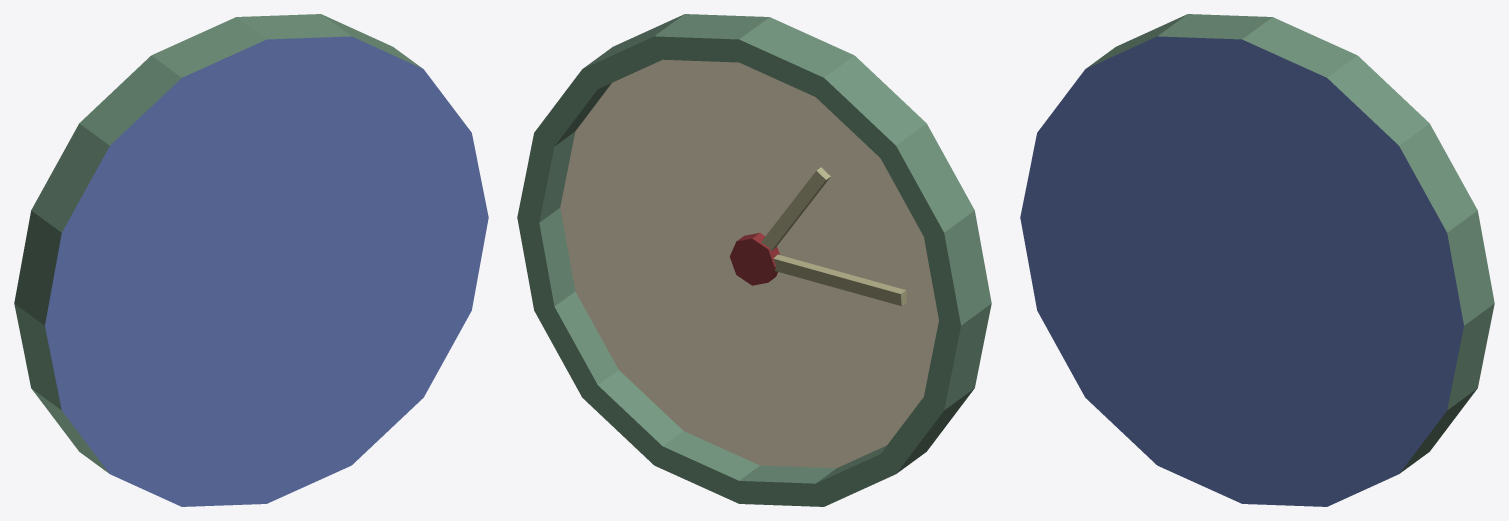
Rendered from Clock.fbx.
3 renders of one model, left to right at view 1: azimuth 30°, elevation 25°; view 2: azimuth 150°, elevation 25°; view 3: azimuth 330°, elevation 25°, orthographic.
Visible parts, largest first — view 1: Circle.059; view 2: Circle.059, Circle.061, Circle.060; view 3: Circle.059.
Boxes of the visible parts, left/top/right/bottom form: Circle.059: left=14, top=14, right=488, bottom=506; Circle.059: left=517, top=14, right=991, bottom=506; Circle.061: left=773, top=254, right=906, bottom=305; Circle.060: left=761, top=167, right=830, bottom=250; Circle.059: left=1020, top=14, right=1494, bottom=506.
Bounding box in the file's own units: 0.8819 × 0.1055 × 0.8819.
